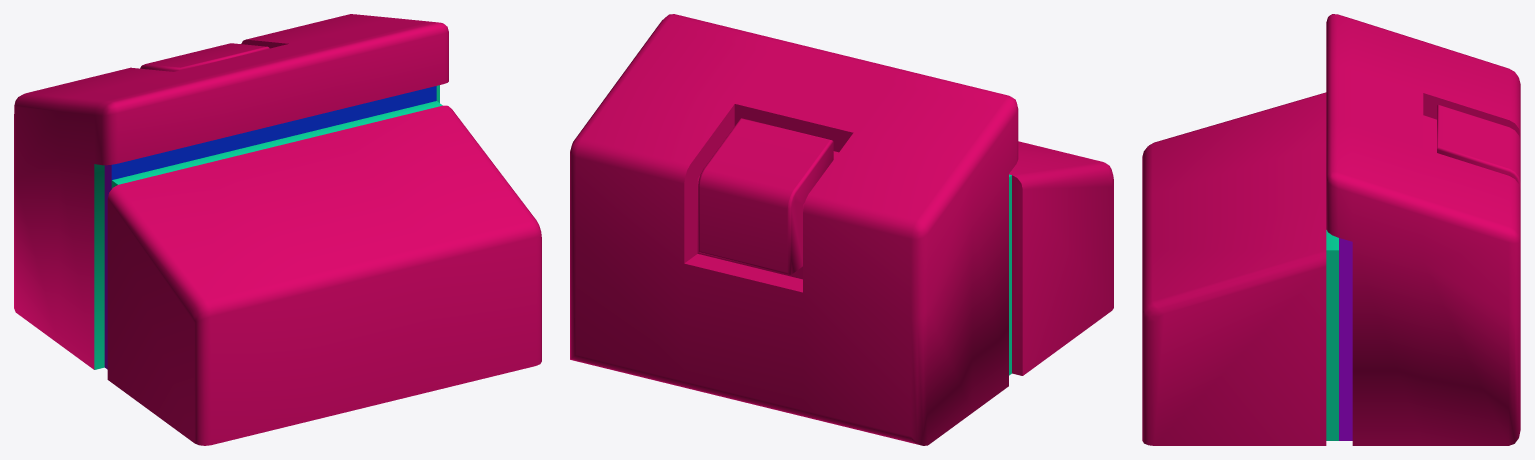
Rendered from nostalgiaobject_sceneprop.fbx.
3 renders of one model, left to right at view 1: azimuth 30°, elevation 25°; view 2: azimuth 150°, elevation 25°; view 3: azimuth 270°, elevation 25°, orthographic. The views are drawn at different scales.
Parts seen in each view (by area): view 1: item_flashback; view 2: item_flashback; view 3: item_flashback.
Part boxes in pixels (x1,y1,x2,y2): item_flashback: (14, 14, 541, 445); item_flashback: (570, 14, 1113, 445); item_flashback: (1142, 14, 1520, 445).
Size of the model in its own units: 48.04 by 36.08 by 45.95.
